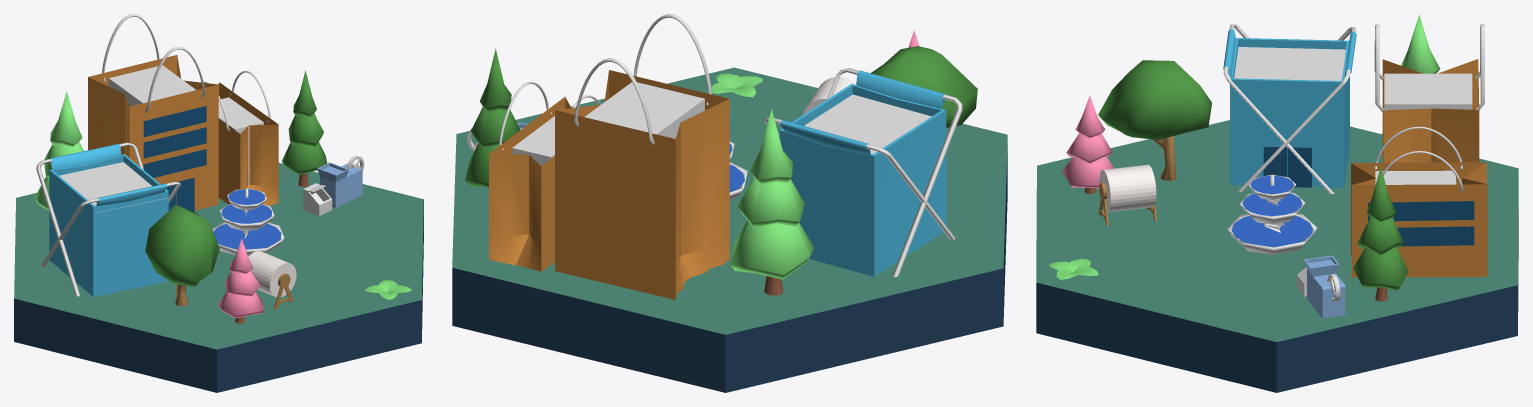
The model's file is Macro - Shop lvl 2 WM3.fbx.
The picture shows the model from 3 angles, left to right: view 1: azimuth 30°, elevation 25°; view 2: azimuth 150°, elevation 25°; view 3: azimuth 270°, elevation 25°; orthographic projection. The views are drawn at different scales.
Visible parts, largest first — view 1: Cylinder.179, bathroom_item_001.001, Circle.006, Circle.005, tree1 v:88 f:56, Cube.018, Tree_Spruce_tiny_01.007, Plane.122, Tree_Spruce_tiny_01.001, Cube.138, Tree_Spruce_tiny_01.005, Cube.012 (+8 smaller); view 2: Cylinder.179, Circle.006, bathroom_item_001.001, Circle.005, Tree_Spruce_tiny_01.005, Cube.138, Plane.122, tree1 v:88 f:56, Tree_Spruce_tiny_01.007, Cube.139, Plane.005, Cylinder.011 (+1 smaller); view 3: Cylinder.179, bathroom_item_001.001, Circle.005, tree1 v:88 f:56, Circle.006, Cube.018, Tree_Spruce_tiny_01.007, Plane.122, Cube.138, Tree_Spruce_tiny_01.001, Cylinder.011, Cube.012 (+7 smaller).
Boxes of the visible parts, box(x1,y1,x2,y2) form: Cylinder.179: box(14, 163, 423, 392); bathroom_item_001.001: box(36, 142, 180, 296); Circle.006: box(88, 14, 218, 210); Circle.005: box(200, 71, 278, 205); tree1 v:88 f:56: box(145, 204, 219, 306); Cube.018: box(212, 188, 284, 256); Tree_Spruce_tiny_01.007: box(282, 70, 327, 186); Plane.122: box(59, 162, 166, 213); Tree_Spruce_tiny_01.001: box(218, 238, 264, 323); Cube.138: box(108, 65, 195, 106); Tree_Spruce_tiny_01.005: box(34, 91, 83, 210); Cube.012: box(317, 162, 362, 207); Cylinder.179: box(452, 67, 1007, 392); Circle.006: box(555, 14, 729, 299); bathroom_item_001.001: box(764, 68, 962, 277); Circle.005: box(489, 81, 600, 271); Tree_Spruce_tiny_01.005: box(730, 109, 814, 295); Cube.138: box(584, 82, 704, 138); Plane.122: box(804, 94, 931, 153); tree1 v:88 f:56: box(871, 46, 977, 127); Tree_Spruce_tiny_01.007: box(465, 49, 520, 187); Cube.139: box(512, 116, 554, 165); Plane.005: box(711, 73, 762, 97); Cylinder.011: box(803, 77, 856, 114); Cylinder.179: box(1036, 120, 1518, 392); bathroom_item_001.001: box(1223, 24, 1356, 194); Circle.005: box(1351, 126, 1487, 277); tree1 v:88 f:56: box(1098, 60, 1211, 180); Circle.006: box(1374, 24, 1484, 162); Cube.018: box(1227, 174, 1316, 254); Tree_Spruce_tiny_01.007: box(1353, 166, 1408, 301); Plane.122: box(1229, 47, 1345, 86); Cube.138: box(1384, 73, 1472, 110); Tree_Spruce_tiny_01.001: box(1062, 95, 1113, 194); Cylinder.011: box(1099, 164, 1156, 212); Cube.012: box(1304, 255, 1345, 318).
Bounding box in the file's own units: 197 × 98.68 × 172.
